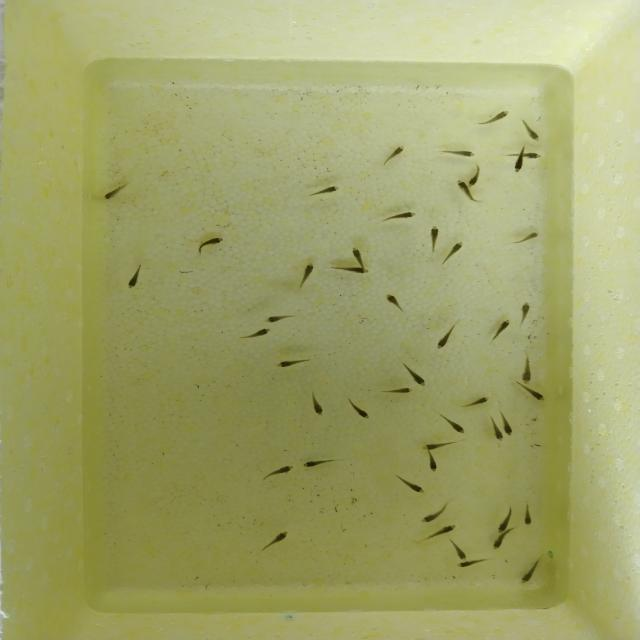fingerling: (252, 529, 290, 557), (293, 258, 320, 291), (122, 260, 148, 294), (188, 232, 232, 252), (432, 322, 461, 351), (99, 179, 134, 203), (257, 462, 295, 484), (376, 207, 419, 226), (442, 238, 469, 268), (517, 558, 544, 588), (379, 142, 410, 168), (518, 118, 547, 144), (347, 396, 373, 424), (269, 356, 316, 371), (477, 108, 513, 127), (487, 318, 512, 345), (299, 455, 343, 470), (380, 291, 409, 313), (306, 390, 328, 418), (305, 182, 343, 198), (514, 227, 544, 247), (402, 364, 429, 386), (439, 415, 468, 435), (458, 394, 494, 410), (418, 440, 466, 452), (396, 477, 428, 495), (415, 507, 447, 525), (428, 524, 464, 540), (241, 324, 273, 342), (438, 146, 479, 160), (426, 221, 443, 254), (448, 539, 472, 562), (523, 387, 553, 405), (260, 312, 304, 324), (328, 265, 374, 276), (508, 147, 525, 176), (468, 163, 486, 190), (516, 298, 532, 326), (422, 454, 443, 475), (487, 419, 504, 444), (520, 354, 534, 384), (346, 244, 368, 263), (382, 385, 416, 397), (496, 509, 514, 531), (520, 504, 536, 528), (489, 533, 508, 553), (504, 410, 516, 436), (456, 560, 487, 570), (456, 176, 468, 199), (526, 151, 548, 162)
